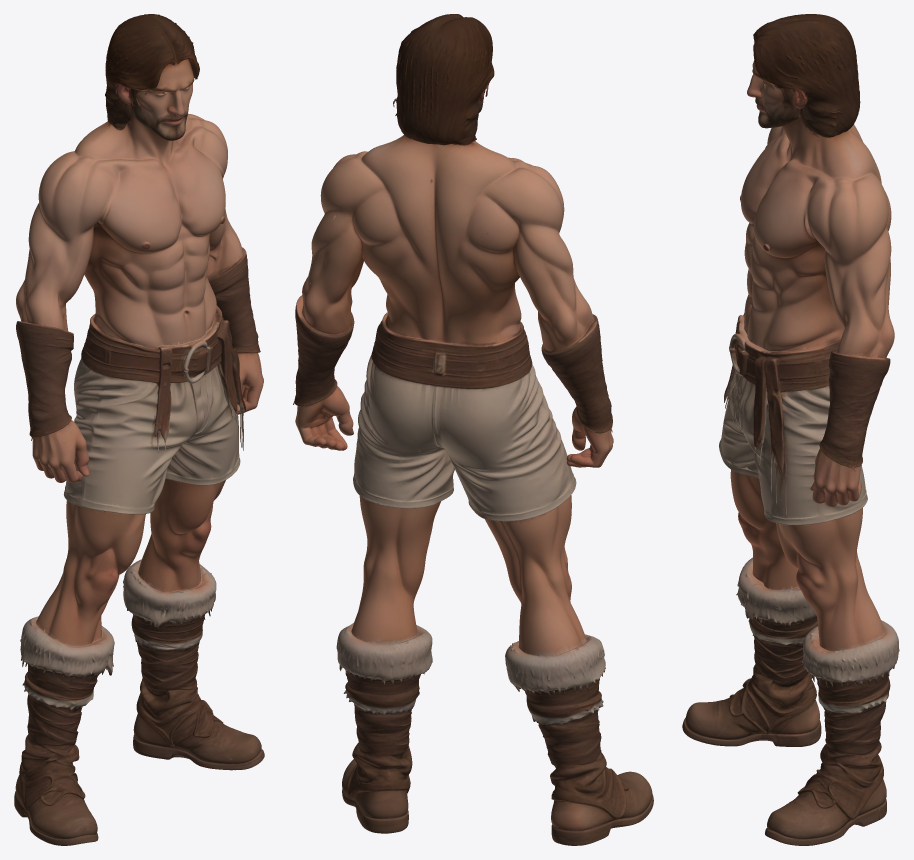
File: warrior_base_male_01.glb
The picture shows the model from 3 angles, left to right: view 1: azimuth 30°, elevation 25°; view 2: azimuth 150°, elevation 25°; view 3: azimuth 270°, elevation 25°; orthographic projection. The views are drawn at different scales.
Visible parts, largest first — view 1: material; view 2: material; view 3: material.
Part boxes in pixels (x1,y1,x2,y2): material: (14, 14, 264, 845); material: (293, 14, 653, 845); material: (682, 14, 899, 845).
Size of the model in its own units: 0.4277 by 1.12 by 0.2821.
1 material, 1 textured.
